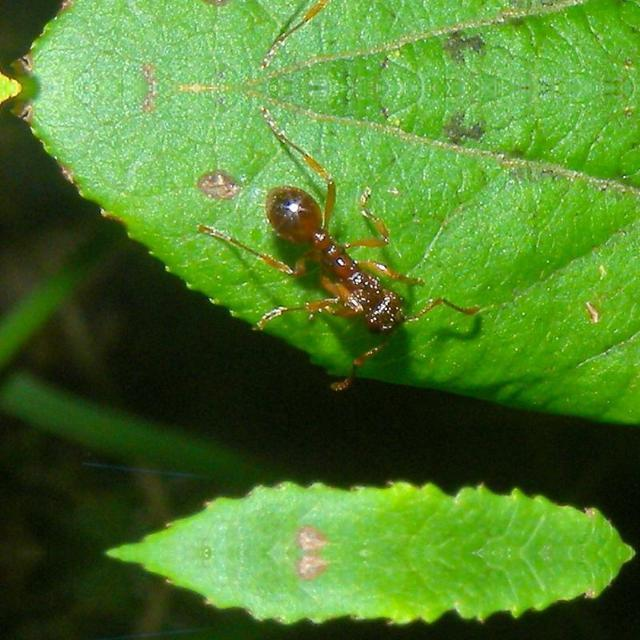Myrmica: (242, 172, 474, 370)
